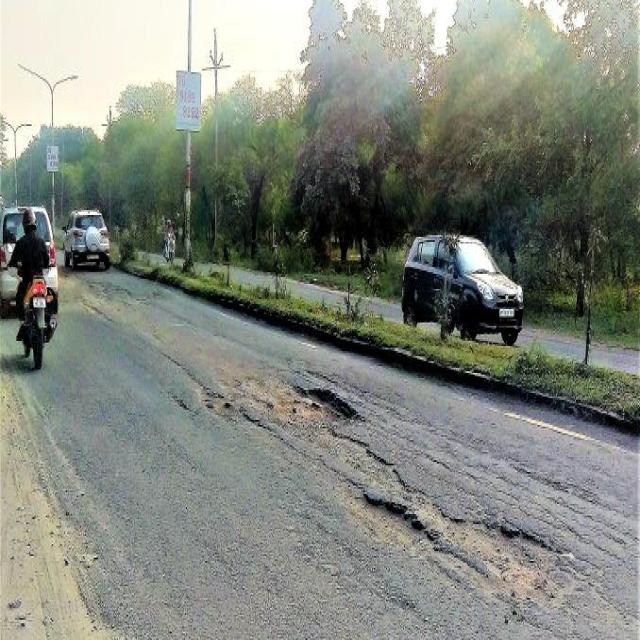pothole: (434, 518, 551, 582), (358, 492, 424, 551), (291, 382, 357, 428)
